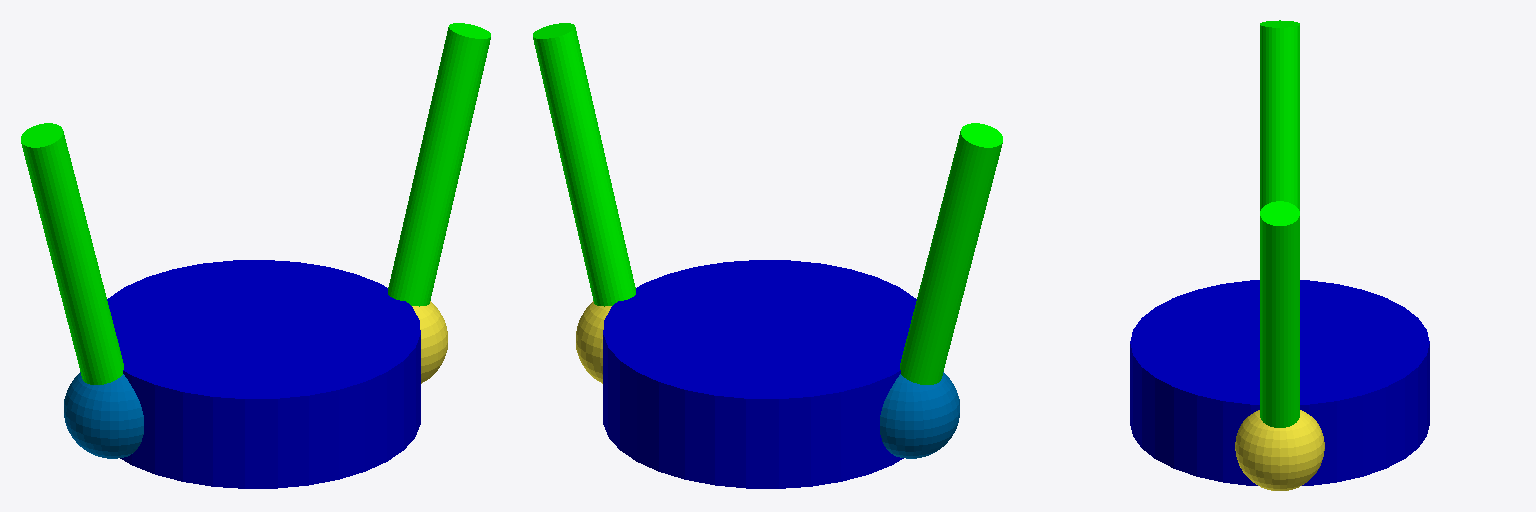
URDF robot description (gripper_2f_1j):
<?xml version='1.0' encoding='UTF-8'?>
<robot name="gripper_2f_1j">
  <link name="palm">
    <inertial>
      <origin xyz="0.0 0.0 0.0" rpy="0.0 -0.0 0.0"/>
      <mass value="1.0"/>
      <inertia ixx="1.0" ixy="0.0" ixz="0.0" iyy="1.0" iyz="0.0" izz="1.0"/>
    </inertial>
    <visual>
      <geometry>
        <cylinder radius="0.05" length="0.03"/>
      </geometry>
      <material name="blue"/>
      <origin xyz="0.0 0.0 0.0" rpy="0.0 -0.0 0.0"/>
    </visual>
    <collision>
      <geometry>
        <cylinder radius="0.05" length="0.03"/>
      </geometry>
      <origin xyz="0.0 0.0 0.0" rpy="0.0 0.0 0.0"/>
    </collision>
  </link>
  <link name="f11">
    <inertial>
      <origin xyz="0.0 0.0 0.0" rpy="0.0 -0.0 0.0"/>
      <mass value="1.0"/>
      <inertia ixx="1.0" ixy="0.0" ixz="0.0" iyy="1.0" iyz="0.0" izz="1.0"/>
    </inertial>
    <visual>
      <geometry>
        <cylinder radius="0.006650004318051562" length="0.10038951792932661"/>
      </geometry>
      <material name="green"/>
      <origin xyz="0.0 0.0 0.05019475896466331" rpy="0.0 -0.0 0.0"/>
    </visual>
    <collision>
      <geometry>
        <cylinder radius="0.006650004318051562" length="0.10038951792932661"/>
      </geometry>
      <origin xyz="0.0 0.0 0.05" rpy="0.0 0.0 0.0"/>
    </collision>
  </link>
  <link name="f21">
    <inertial>
      <origin xyz="0.0 0.0 0.0" rpy="0.0 -0.0 0.0"/>
      <mass value="1.0"/>
      <inertia ixx="1.0" ixy="0.0" ixz="0.0" iyy="1.0" iyz="0.0" izz="1.0"/>
    </inertial>
    <visual>
      <geometry>
        <cylinder radius="0.006650004318051562" length="0.10038951792932661"/>
      </geometry>
      <material name="green"/>
      <origin xyz="0.0 0.0 0.05019475896466331" rpy="0.0 -0.0 0.0"/>
    </visual>
    <collision>
      <geometry>
        <cylinder radius="0.006650004318051562" length="0.10038951792932661"/>
      </geometry>
      <origin xyz="0.0 0.0 0.05" rpy="0.0 0.0 0.0"/>
    </collision>
  </link>
  <link name="f11_base">
    <inertial>
      <origin xyz="0.0 0.0 0.0" rpy="0.0 -0.0 0.0"/>
      <mass value="1.0"/>
      <inertia ixx="1.0" ixy="0.0" ixz="0.0" iyy="1.0" iyz="0.0" izz="1.0"/>
    </inertial>
    <visual>
      <geometry>
        <sphere radius="0.015"/>
      </geometry>
      <origin xyz="0.0 0.0 0.0" rpy="0.0 -0.0 0.0"/>
    </visual>
  </link>
  <link name="f21_base">
    <inertial>
      <origin xyz="0.0 0.0 0.0" rpy="0.0 -0.0 0.0"/>
      <mass value="1.0"/>
      <inertia ixx="1.0" ixy="0.0" ixz="0.0" iyy="1.0" iyz="0.0" izz="1.0"/>
    </inertial>
    <visual>
      <geometry>
        <sphere radius="0.015"/>
      </geometry>
      <origin xyz="0.0 0.0 0.0" rpy="0.0 -0.0 0.0"/>
    </visual>
  </link>
  <joint name="f11_joint" type="revolute">
    <dynamics damping="100.0" friction="1.0"/>
    <limit effort="30.0" velocity="2.0" lower="-0.6" upper="0.25"/>
    <parent link="f11_base"/>
    <child link="f11"/>
    <axis xyz="0. 1. 0."/>
    <origin xyz="0.0 0.0 0.0" rpy="0.0 0.25 0.0"/>
  </joint>
  <joint name="f21_joint" type="revolute">
    <dynamics damping="100.0" friction="1.0"/>
    <limit effort="30.0" velocity="2.0" lower="-0.6" upper="0.25"/>
    <parent link="f21_base"/>
    <child link="f21"/>
    <axis xyz=" 0. -1.  0."/>
    <origin xyz="0.0 0.0 0.0" rpy="0.0 -0.25 0.0"/>
  </joint>
  <joint name="f11_base_joint" type="fixed">
    <parent link="palm"/>
    <child link="f11_base"/>
    <axis xyz="1. 0. 0."/>
    <origin xyz="0.05 0.0 0.0" rpy="0.0 0.0 0.0"/>
  </joint>
  <joint name="f21_base_joint" type="fixed">
    <parent link="palm"/>
    <child link="f21_base"/>
    <axis xyz="1. 0. 0."/>
    <origin xyz="-0.05 -0.0 0.0" rpy="0.0 0.0 0.0"/>
  </joint>
  <material name="blue">
    <color rgba="0.  0.  0.8 1. "/>
  </material>
  <material name="green">
    <color rgba="0. 1. 0. 1."/>
  </material>
</robot>

--- Facts derived from the render (not from the file) ---
The picture shows the robot from 3 angles, left to right: view 1: azimuth 30°, elevation 25°; view 2: azimuth 150°, elevation 25°; view 3: azimuth 270°, elevation 25°; orthographic projection.
Robot: gripper_2f_1j — 5 links, 4 joints (2 revolute, 2 fixed); root link palm; default pose: every joint at zero.
Visible links, largest first — view 1: palm, f11, f21, f21_base, f11_base; view 2: palm, f11, f21, f21_base, f11_base; view 3: palm, f11, f21, f11_base.
Boxes of the visible links, box(x1,y1,x2,y2) form: palm: box(107, 260, 420, 488); f11: box(388, 23, 490, 306); f21: box(21, 123, 123, 384); f21_base: box(64, 372, 143, 458); f11_base: box(412, 301, 447, 383); palm: box(603, 260, 916, 488); f11: box(533, 23, 635, 306); f21: box(900, 123, 1002, 384); f21_base: box(880, 372, 959, 458); f11_base: box(576, 301, 611, 383); palm: box(1130, 280, 1429, 485); f11: box(1260, 201, 1299, 427); f21: box(1260, 20, 1299, 210); f11_base: box(1235, 410, 1324, 490).
Bounding box of the posed robot: 0.1626 × 0.1 × 0.1139 m (x, y, z).
Geometry: primitives only (box / cylinder / sphere), no mesh files.